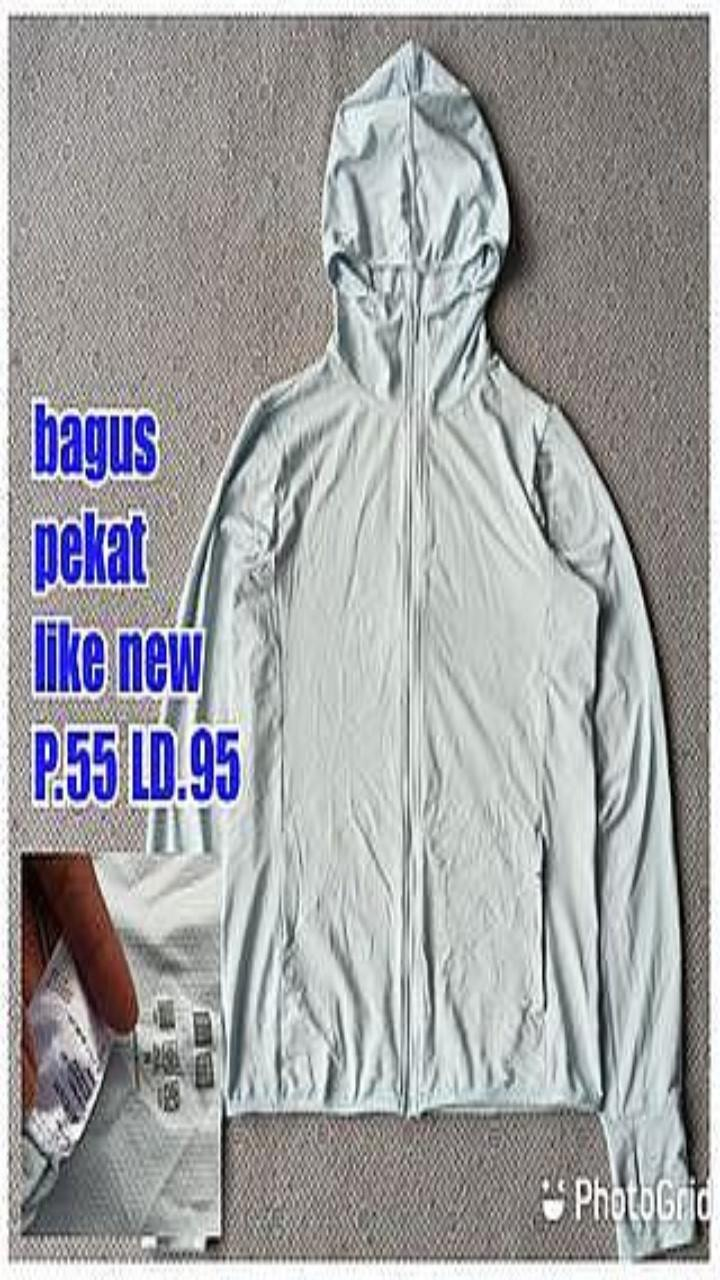Sports_Jacket: (149, 43, 688, 1190)
